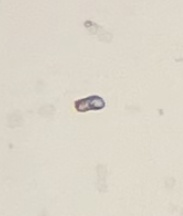microplastic: (74, 95, 105, 112)
